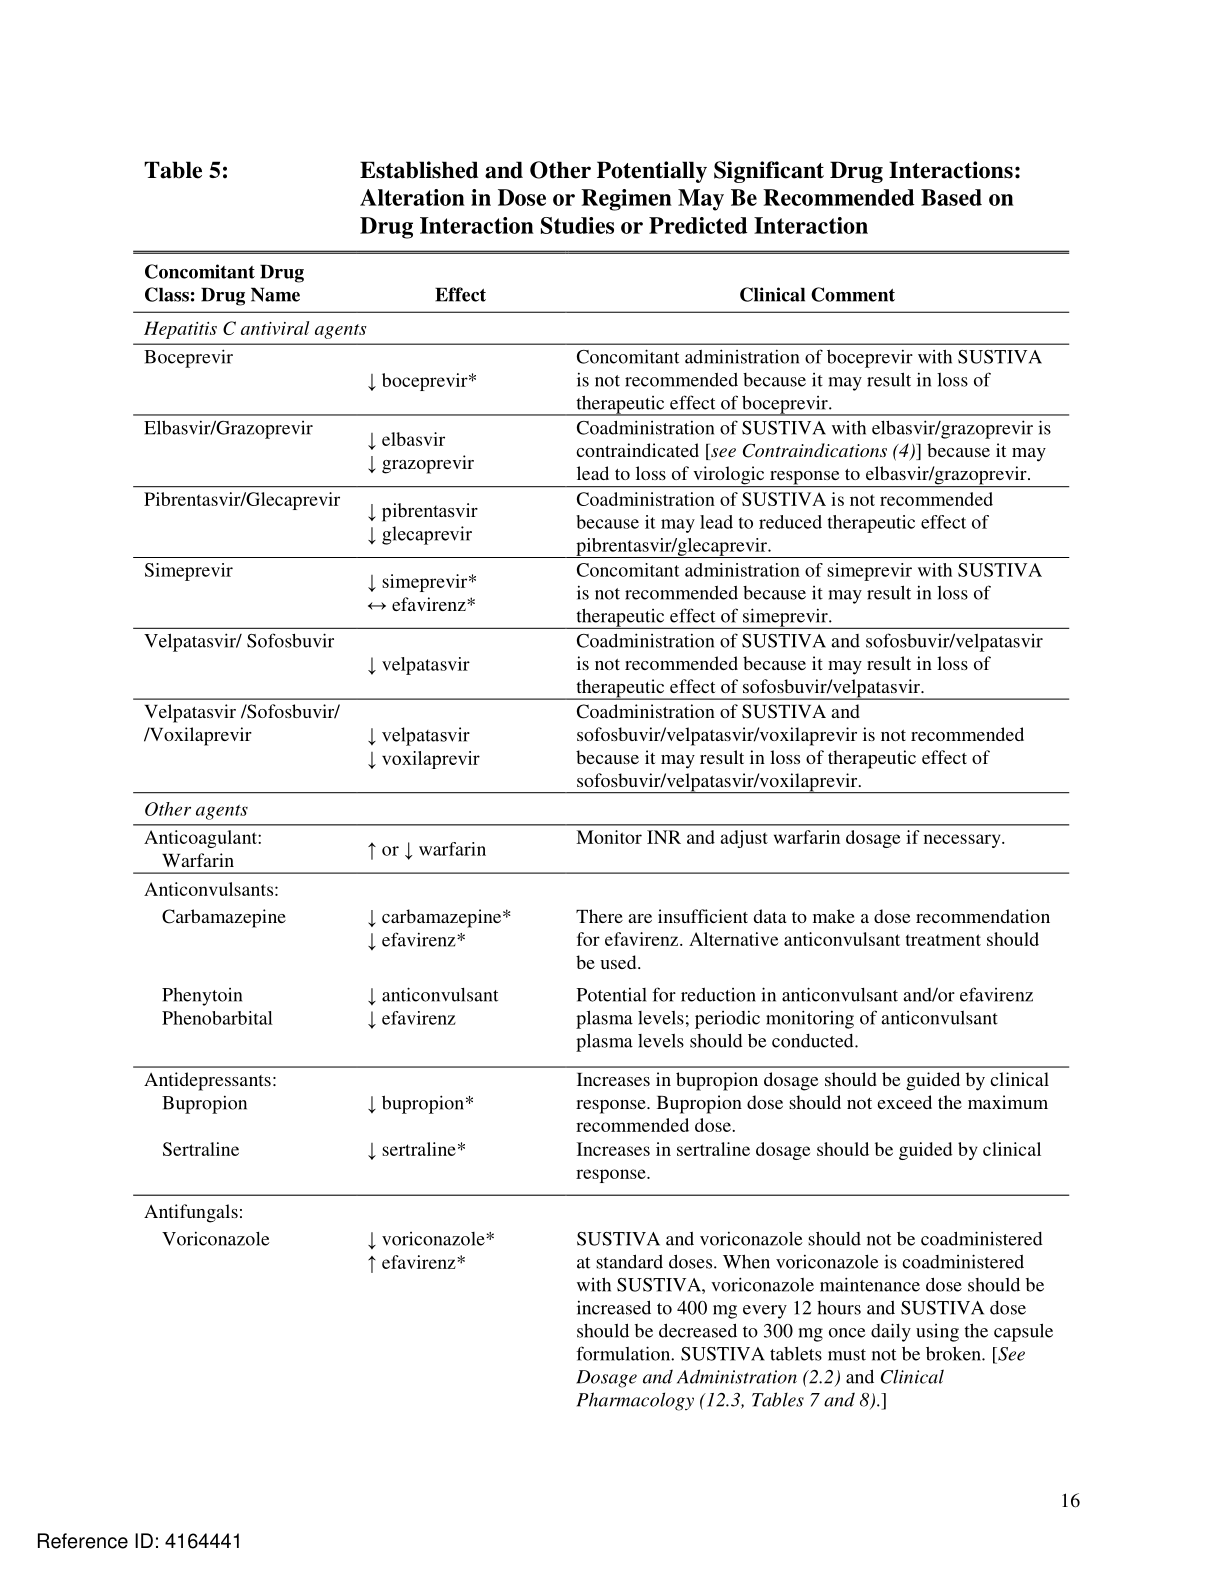partial_lined: (130, 249, 1068, 1426)
